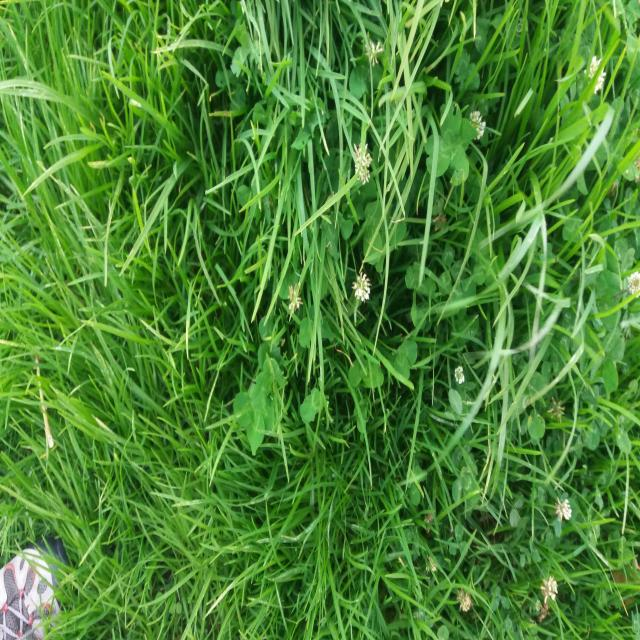Four Leaf Clover: (424, 101, 477, 185)
